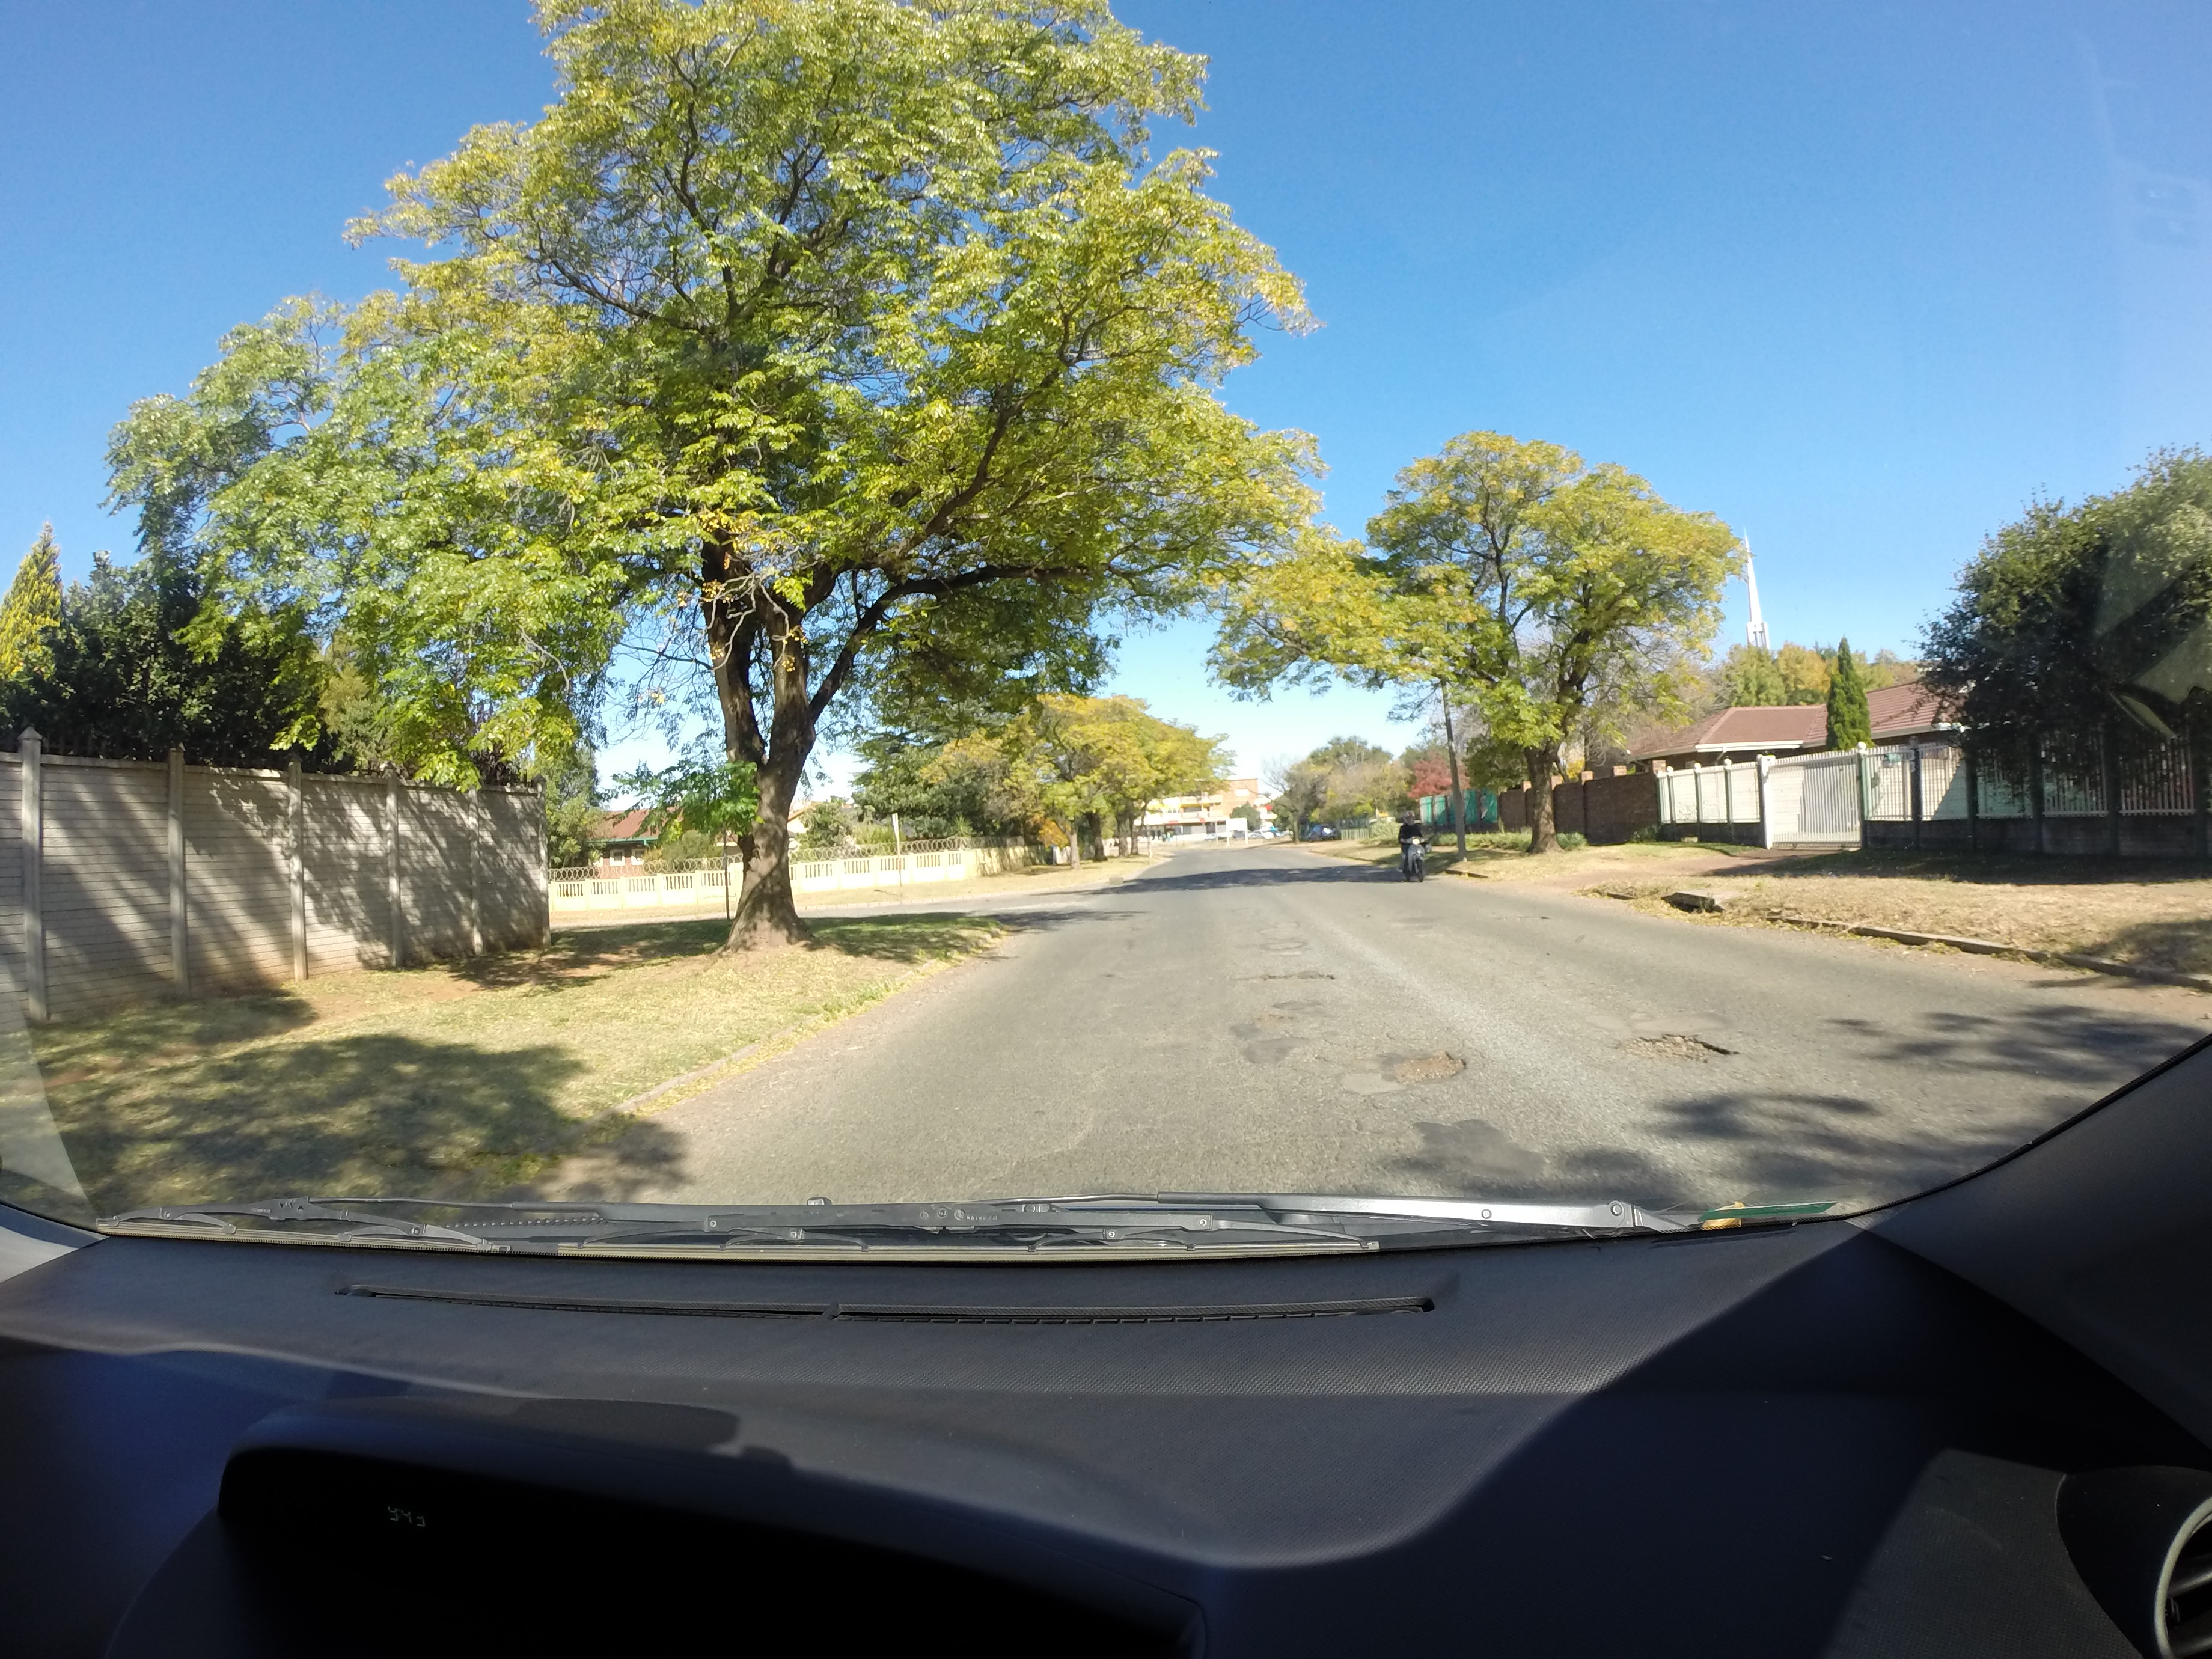pothole: (1378, 1032, 1480, 1112), (1611, 1012, 1735, 1079)
